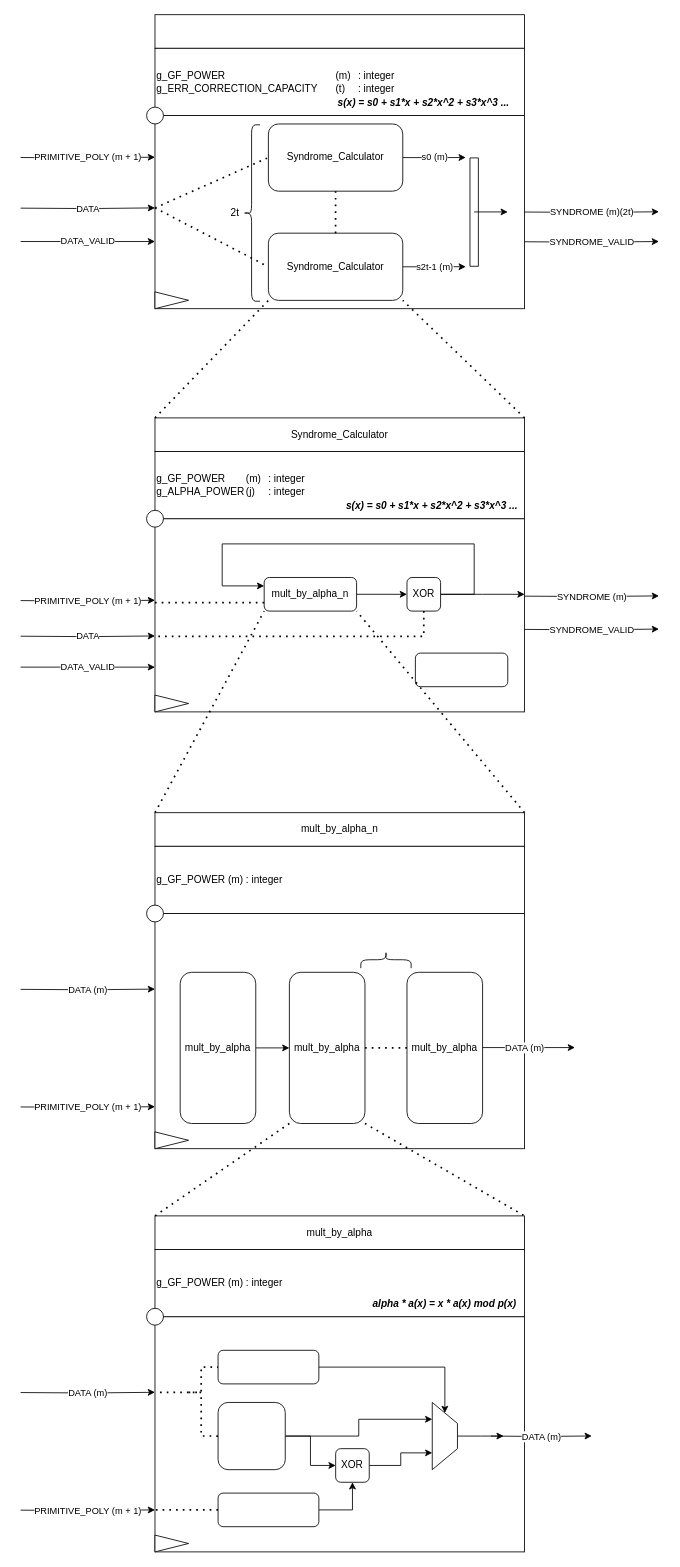
Image size: 680x1567. Some labels were removed from this diagram. Each missing label, with the centre of its shape:
"BIT SELECTION MSB" belongs at (x=268, y=1366).
"COUNTER" belongs at (x=461, y=669).
"m - 1" belongs at (x=385, y=959).
"PART SELECTION" belongs at (x=268, y=1509).
"SHIFTER << 1" belongs at (x=251, y=1436).
"Syndrome_Generator" belongs at (x=339, y=31).
